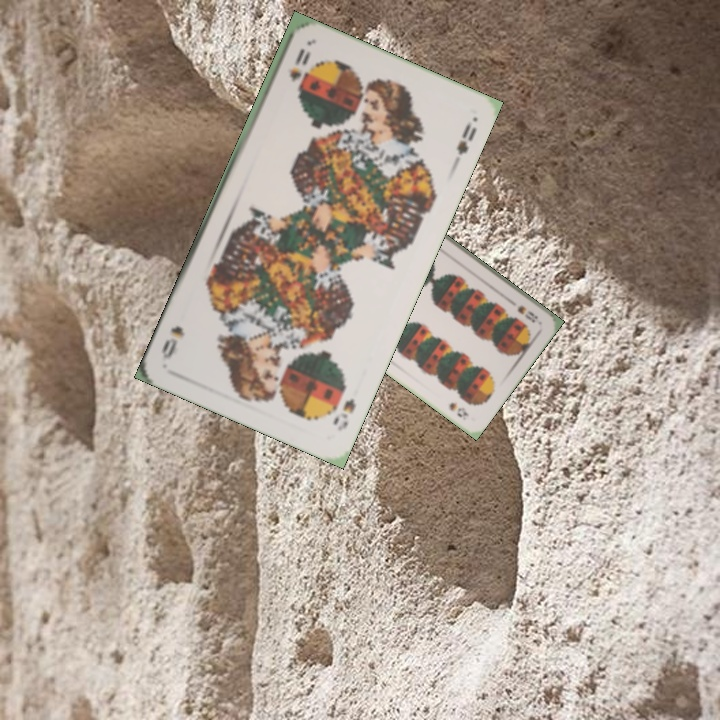S8: (513, 301, 540, 325)
SO: (328, 394, 358, 434), (285, 44, 308, 85)
